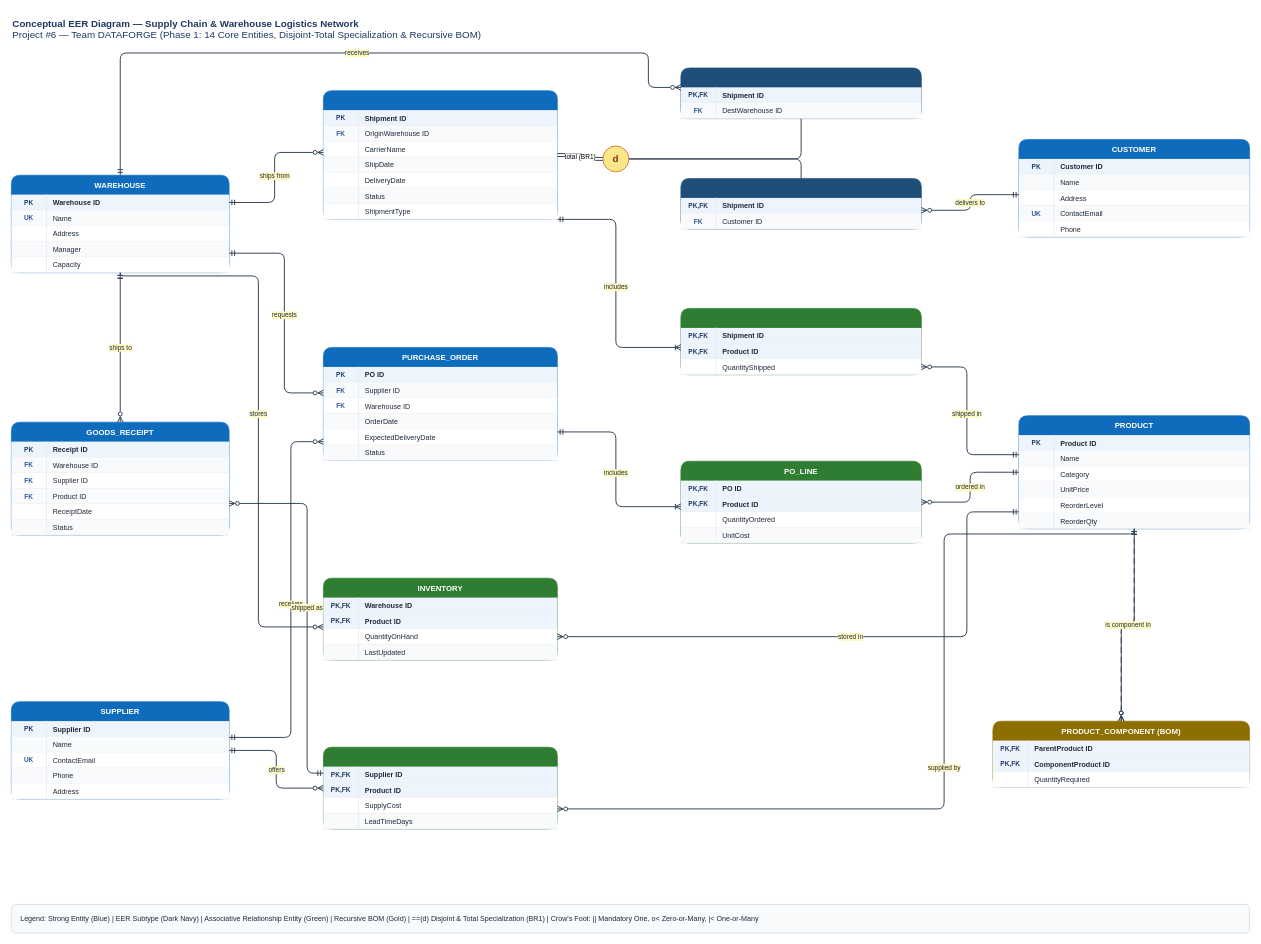
The diagram is 1261 pixels wide and 944 high, and some of its shapes have lost their labels. Here are the shapes that lost their labels. From the top down, the box of each, then its label:
(680, 67, 921, 119): WAREHOUSE_TRANSFER (SUBTYPE)
(323, 90, 557, 219): SHIPMENT (SUPERTYPE)
(680, 178, 921, 229): CUSTOMER_DELIVERY (SUBTYPE)
(680, 308, 921, 375): SHIPMENT_LINE
(323, 747, 557, 829): SUPPLIER_PRODUCT
